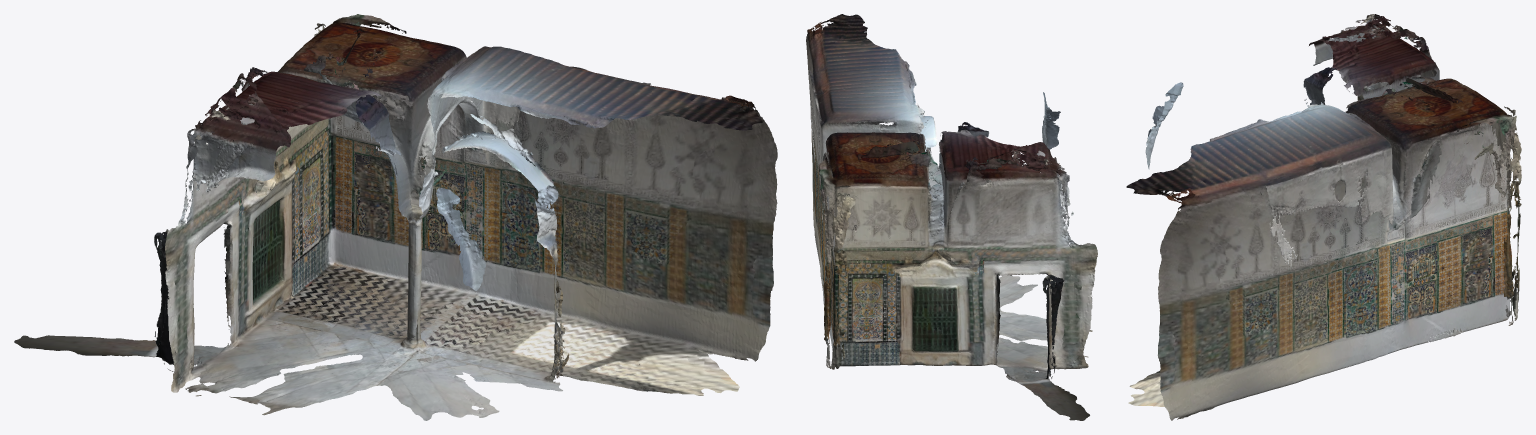
The model's file is test-scan-interior-with-tilework-and-fountain.glb.
The picture shows the model from 3 angles, left to right: view 1: azimuth 30°, elevation 25°; view 2: azimuth 150°, elevation 25°; view 3: azimuth 270°, elevation 25°; orthographic projection. The views are drawn at different scales.
Visible parts, largest first — view 1: Scaniverse; view 2: Scaniverse; view 3: Scaniverse.
Part boxes in pixels (x1,y1,x2,y2): Scaniverse: [14, 14, 777, 420]; Scaniverse: [806, 14, 1097, 420]; Scaniverse: [1126, 14, 1521, 420].
Bounding box in the file's own units: 10.94 × 5.15 × 7.78.
Materials: 1 (1 with a texture image).
